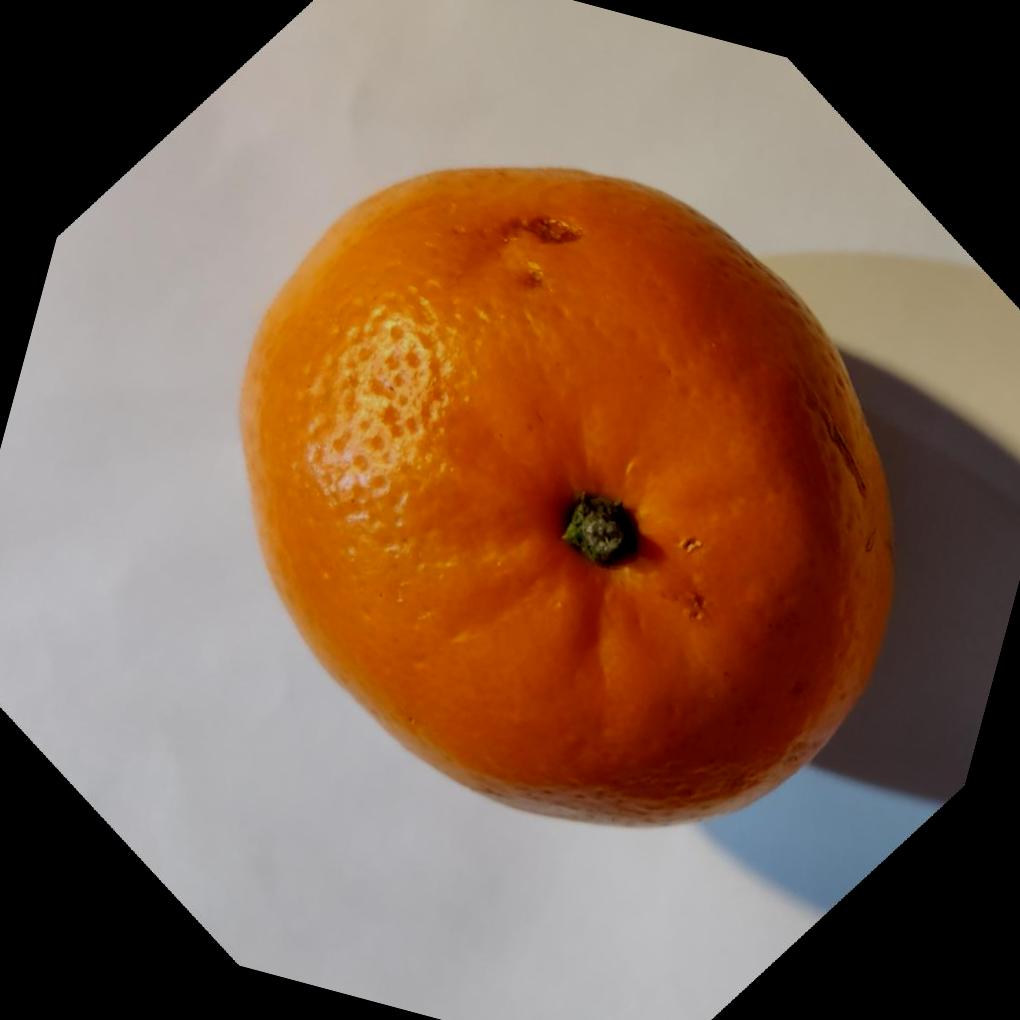FreshGuava: (237, 159, 895, 826)
